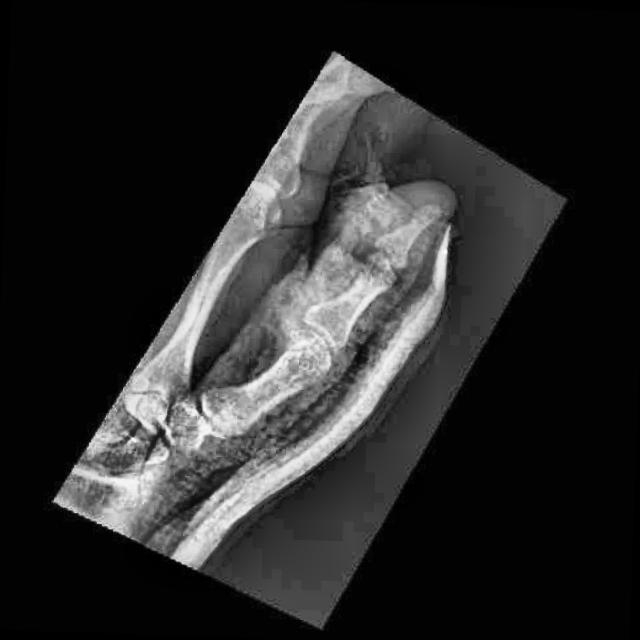fingers positive: (280, 324, 332, 375)
